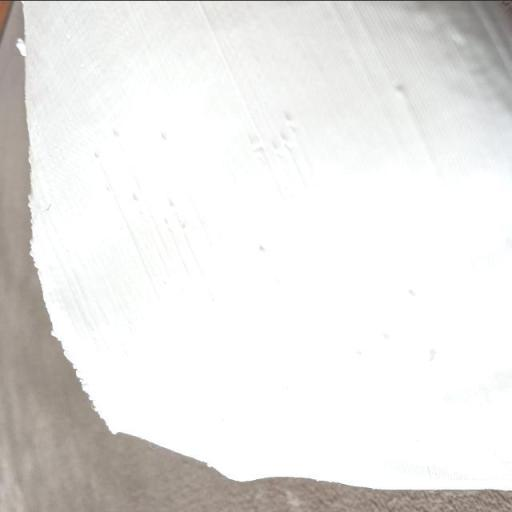blobs: (403, 284, 417, 302), (157, 131, 172, 146), (422, 352, 438, 366), (91, 150, 104, 164), (254, 244, 268, 257), (131, 192, 142, 208), (102, 185, 116, 196), (393, 80, 404, 94), (111, 130, 122, 141), (166, 200, 176, 212), (378, 332, 390, 342), (355, 348, 365, 360), (160, 218, 170, 228), (178, 223, 186, 231)
